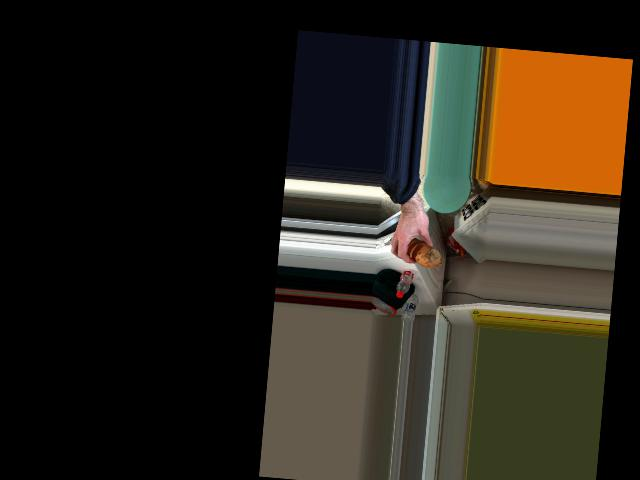sweet_potato: (406, 238, 436, 268)
